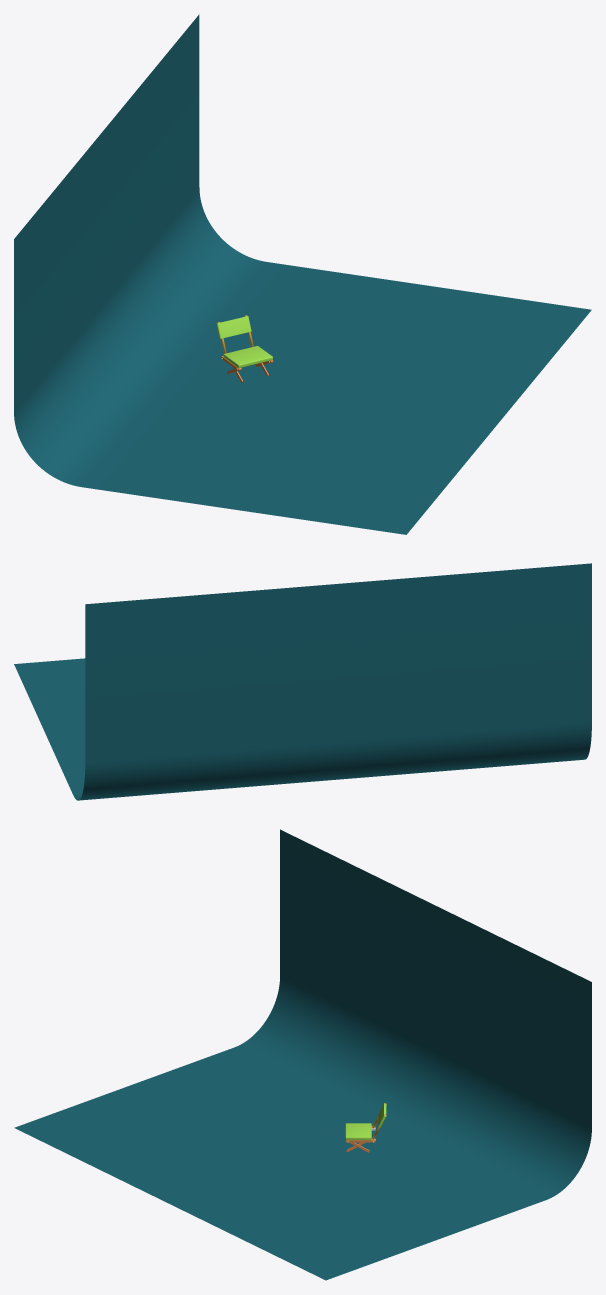
The model's file is Test_dengzi-babyLon.glb.
3 renders of one model, top to bottom at view 1: azimuth 30°, elevation 25°; view 2: azimuth 150°, elevation 25°; view 3: azimuth 270°, elevation 25°, orthographic. The views are drawn at different scales.
Visible parts, largest first — view 1: 立方体.001, 立方体; view 2: 立方体.001; view 3: 立方体.001.
Part boxes in pixels (bbox=[...]): 立方体.001: bbox=[14, 14, 591, 534]; 立方体: bbox=[223, 346, 272, 368]; 立方体.001: bbox=[14, 563, 591, 800]; 立方体.001: bbox=[14, 829, 591, 1280].
Size of the model in its own units: 34.81 by 13.08 by 34.05.
